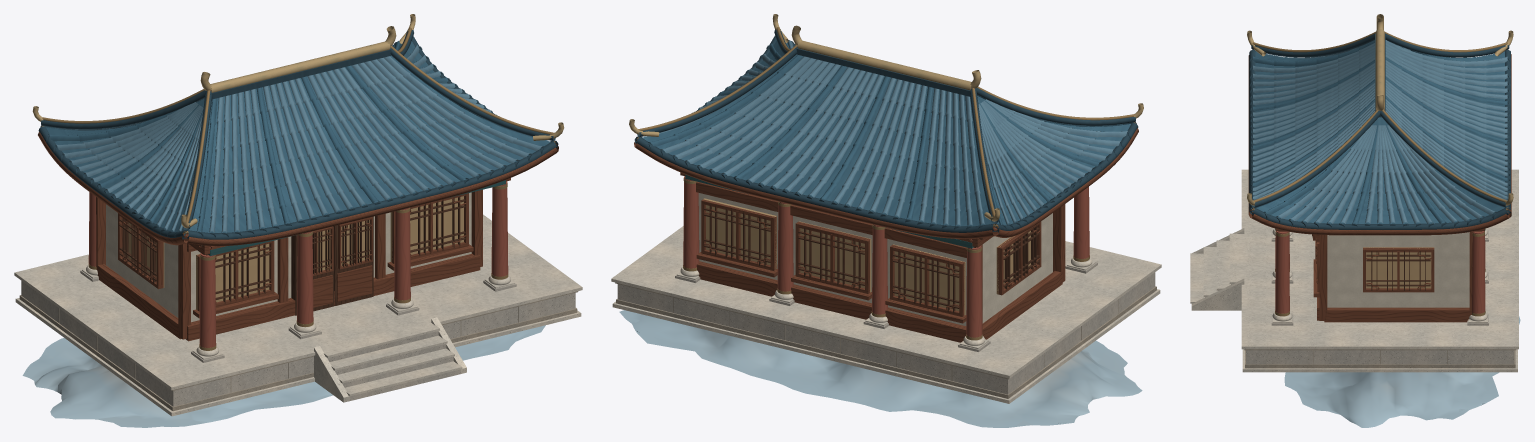
The picture shows the model from 3 angles, left to right: view 1: azimuth 30°, elevation 25°; view 2: azimuth 150°, elevation 25°; view 3: azimuth 270°, elevation 25°; orthographic projection. The views are drawn at different scales.
Parts seen in each view (by area): view 1: StoneLightStudy_stonePale, TempleReference_tileRound, TempleReference_glaze, TempleReference_heartwood, ValleyStone, StoneLightStudy_stone, TempleReference_shadowTile, TempleReference_walnut, TempleReference_lacquer, TempleReference_silk, TempleReference_lime, StoneLightStudy_carving (+4 smaller); view 2: TempleReference_tileRound, TempleReference_glaze, StoneLightStudy_stonePale, TempleReference_heartwood, ValleyStone, TempleReference_shadowTile, StoneLightStudy_stone, TempleReference_lacquer, TempleReference_silk, TempleReference_walnut, TempleReference_lime, StoneLightStudy_carving (+4 smaller); view 3: TempleReference_tileRound, StoneLightStudy_stonePale, TempleReference_glaze, ValleyStone, TempleReference_lime, TempleReference_heartwood, TempleReference_shadowTile, StoneLightStudy_stone, TempleReference_lacquer, TempleReference_silk, StoneLightStudy_carving, TempleReference_bronze (+4 smaller).
Boxes of the visible parts, x1,y1,x2,y2 form: StoneLightStudy_stonePale: [14, 214, 582, 416]; TempleReference_tileRound: [55, 44, 544, 232]; TempleReference_glaze: [46, 41, 550, 232]; TempleReference_heartwood: [38, 132, 558, 341]; ValleyStone: [22, 325, 545, 427]; StoneLightStudy_stone: [21, 281, 575, 406]; TempleReference_shadowTile: [38, 30, 558, 239]; TempleReference_walnut: [119, 195, 465, 315]; TempleReference_lacquer: [88, 181, 508, 347]; TempleReference_silk: [128, 196, 463, 309]; TempleReference_lime: [106, 192, 471, 322]; StoneLightStudy_carving: [19, 291, 578, 411]; TempleReference_tileRound: [644, 40, 1128, 225]; TempleReference_glaze: [642, 40, 1130, 226]; StoneLightStudy_stonePale: [611, 226, 1161, 403]; TempleReference_heartwood: [634, 128, 1138, 342]; ValleyStone: [619, 310, 1142, 427]; TempleReference_shadowTile: [634, 29, 1138, 232]; StoneLightStudy_stone: [617, 272, 1155, 394]; TempleReference_lacquer: [683, 176, 1089, 337]; TempleReference_silk: [703, 198, 1030, 315]; TempleReference_walnut: [704, 204, 1039, 313]; TempleReference_lime: [698, 193, 1052, 325]; StoneLightStudy_carving: [615, 282, 1156, 398]; TempleReference_tileRound: [1250, 40, 1507, 223]; StoneLightStudy_stonePale: [1190, 169, 1518, 372]; TempleReference_glaze: [1253, 40, 1507, 223]; ValleyStone: [1284, 316, 1520, 427]; TempleReference_lime: [1327, 232, 1469, 307]; TempleReference_heartwood: [1248, 54, 1511, 322]; TempleReference_shadowTile: [1249, 33, 1510, 229]; StoneLightStudy_stone: [1205, 284, 1514, 364]; TempleReference_lacquer: [1275, 231, 1485, 313]; TempleReference_silk: [1363, 247, 1433, 288]; StoneLightStudy_carving: [1244, 349, 1516, 368]; TempleReference_bronze: [1252, 31, 1508, 316].
Size of the model in its own units: 11.85 by 6.67 by 7.57.
Materials: 15 (14 with a texture image).
